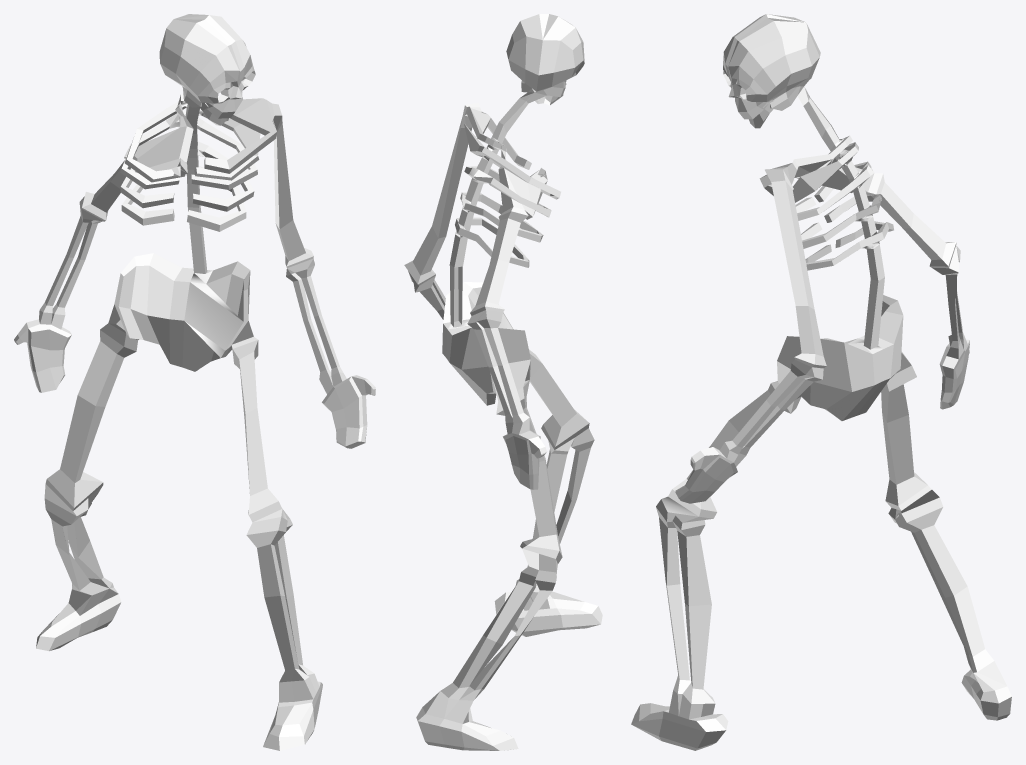
File: SkeletonIdle(13).obj
3 renders of one model, left to right at view 1: azimuth 30°, elevation 25°; view 2: azimuth 150°, elevation 25°; view 3: azimuth 270°, elevation 25°, orthographic. The views are drawn at different scales.
Parts seen in each view (by area): view 1: Object002; view 2: Object002; view 3: Object002.
Part boxes in pixels (<box>): Object002: <box>14,14,375,750</box>; Object002: <box>404,14,602,750</box>; Object002: <box>631,14,1011,750</box>.
Bounding box in the file's own units: 389 × 1123 × 556.
